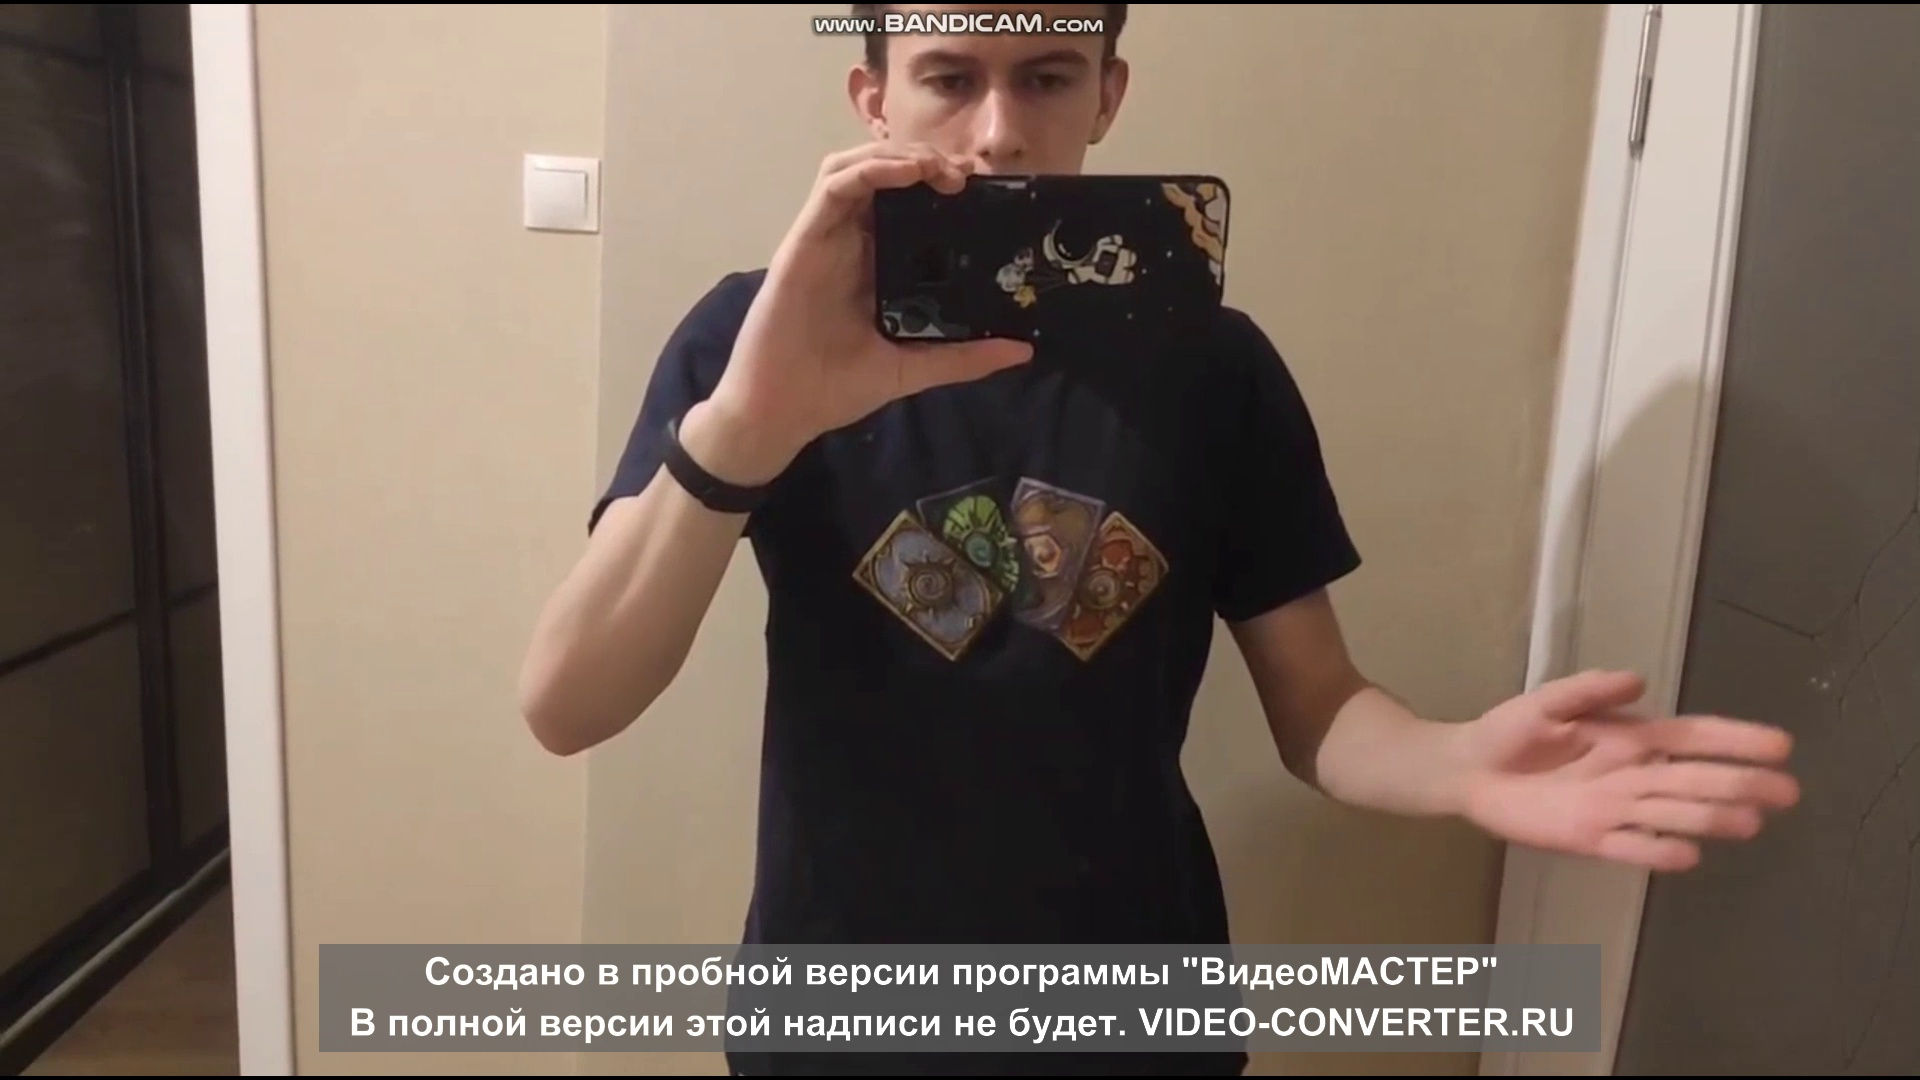Ладонь: (1482, 669, 1800, 873)
